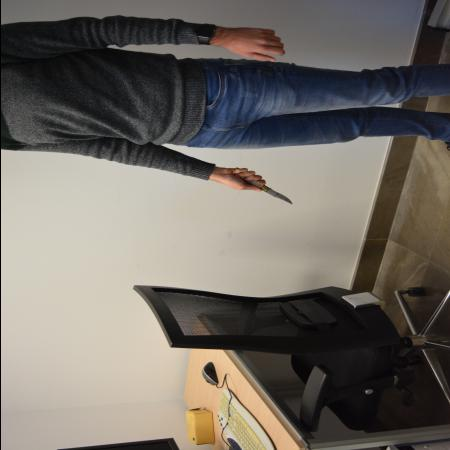long weapon: (231, 166, 295, 206)
